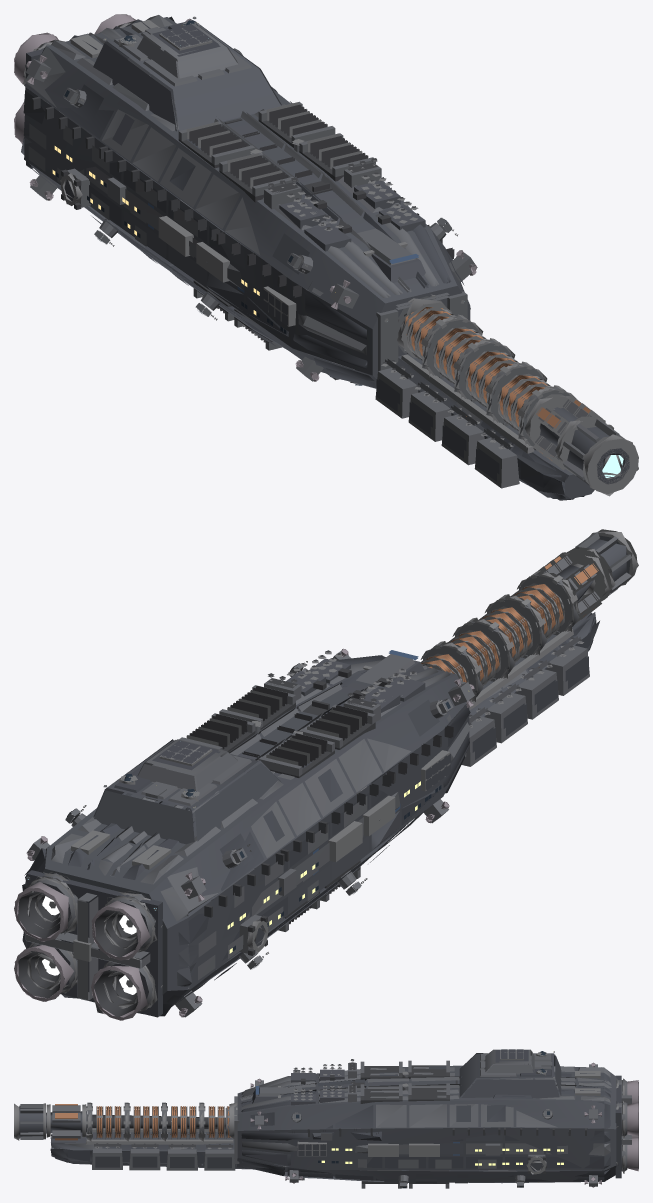
File: ion_frigate_lod.glb
3 views of the same model, one above another, from view 1: azimuth 30°, elevation 25°; view 2: azimuth 150°, elevation 25°; view 3: azimuth 270°, elevation 25° (orthographic). The views are drawn at different scales.
Visible parts, largest first — view 1: ion_frigate; view 2: ion_frigate; view 3: ion_frigate.
Part boxes in pixels (x1,y1,x2,y2): ion_frigate: (14,14,638,500); ion_frigate: (14,529,638,1020); ion_frigate: (14,1049,638,1188).
Size of the model in its own units: 14.02 by 14.78 by 68.5.
